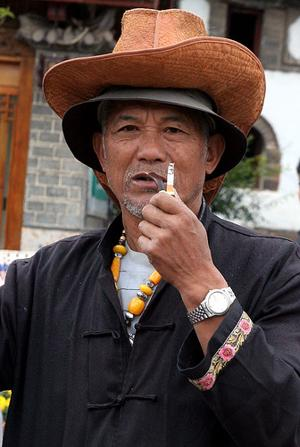person: (1, 5, 300, 446)
